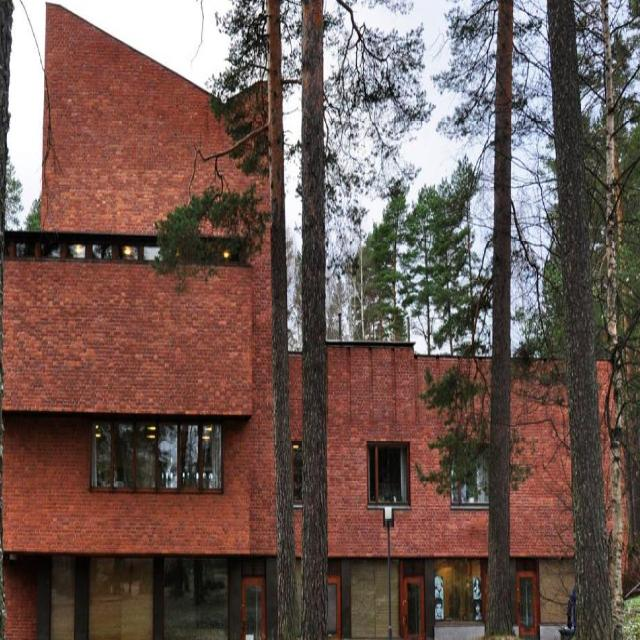door: (515, 571, 540, 639), (242, 577, 266, 639), (401, 579, 425, 639), (325, 580, 342, 638)
window: (92, 418, 222, 493), (163, 557, 229, 638), (17, 244, 160, 264), (368, 447, 408, 506)
